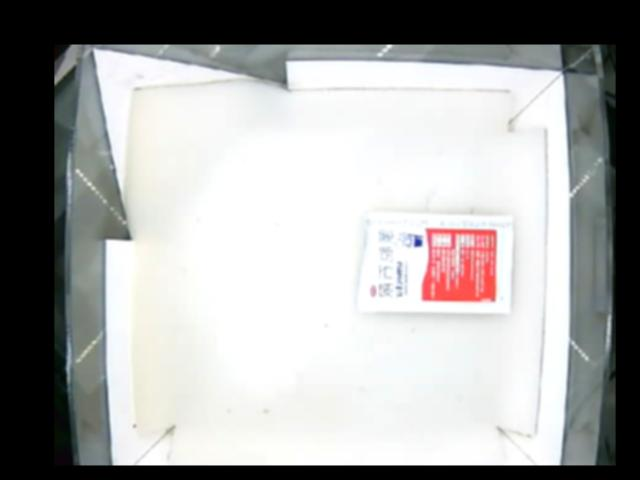Medicine: (356, 211, 515, 316)
